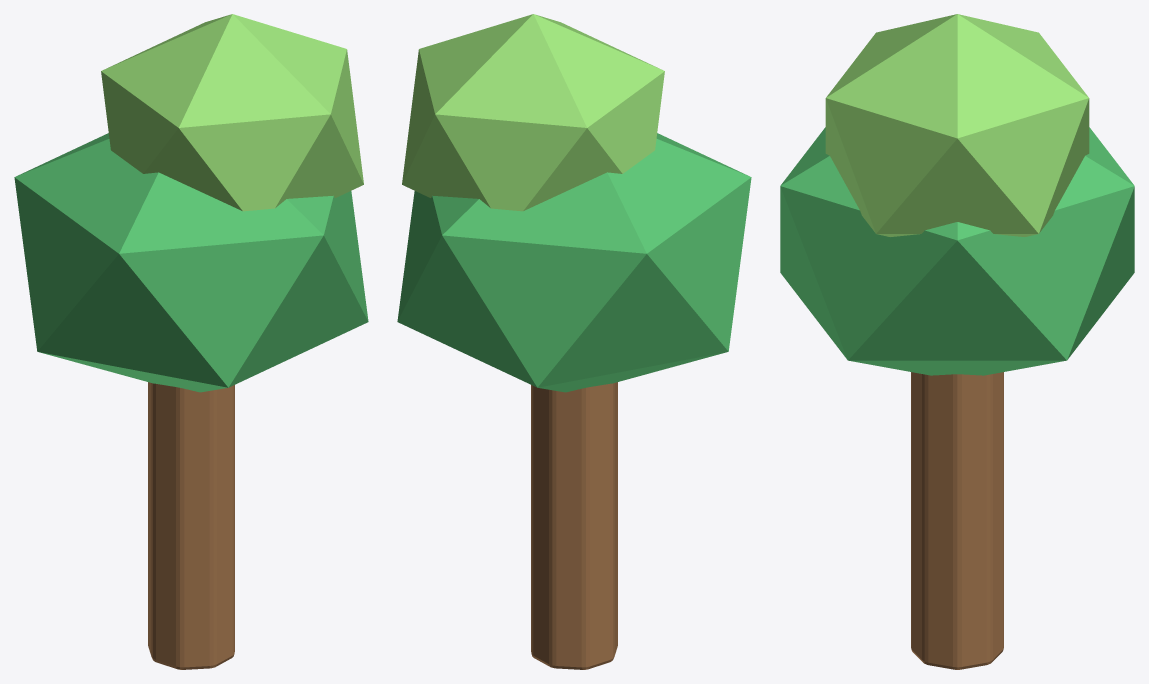
File: Tree.fbx
3 views of the same model, side by side, from view 1: azimuth 30°, elevation 25°; view 2: azimuth 150°, elevation 25°; view 3: azimuth 270°, elevation 25° (orthographic). The views are drawn at different scales.
Parts seen in each view (by area): view 1: TreeLeavesLow, TreeLeavesHigh, TreeTrunk; view 2: TreeLeavesLow, TreeLeavesHigh, TreeTrunk; view 3: TreeLeavesLow, TreeLeavesHigh, TreeTrunk.
Boxes of the visible parts, <box> form: TreeLeavesLow: <box>14,133,368,392</box>; TreeLeavesHigh: <box>101,14,363,211</box>; TreeTrunk: <box>148,382,234,669</box>; TreeLeavesLow: <box>397,133,751,392</box>; TreeLeavesHigh: <box>402,14,664,211</box>; TreeTrunk: <box>531,382,617,669</box>; TreeLeavesLow: <box>780,127,1134,375</box>; TreeLeavesHigh: <box>825,14,1089,236</box>; TreeTrunk: <box>911,372,1003,669</box>.
Bounding box in the file's own units: 1.89 × 3.66 × 1.79.
